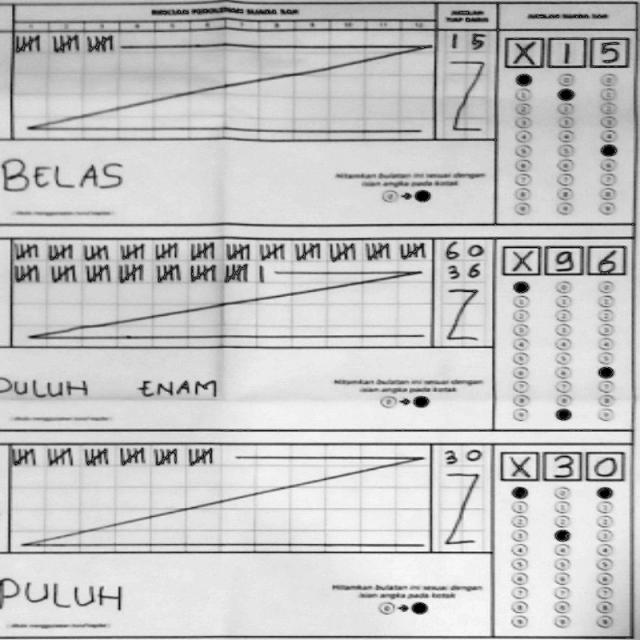Suara: (499, 32, 631, 69), (498, 242, 628, 278), (494, 447, 626, 482)
